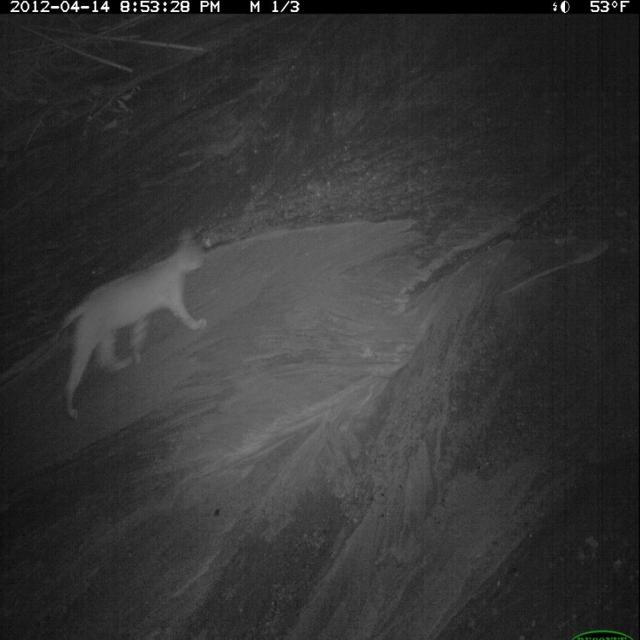bobcat: (53, 221, 213, 424)
